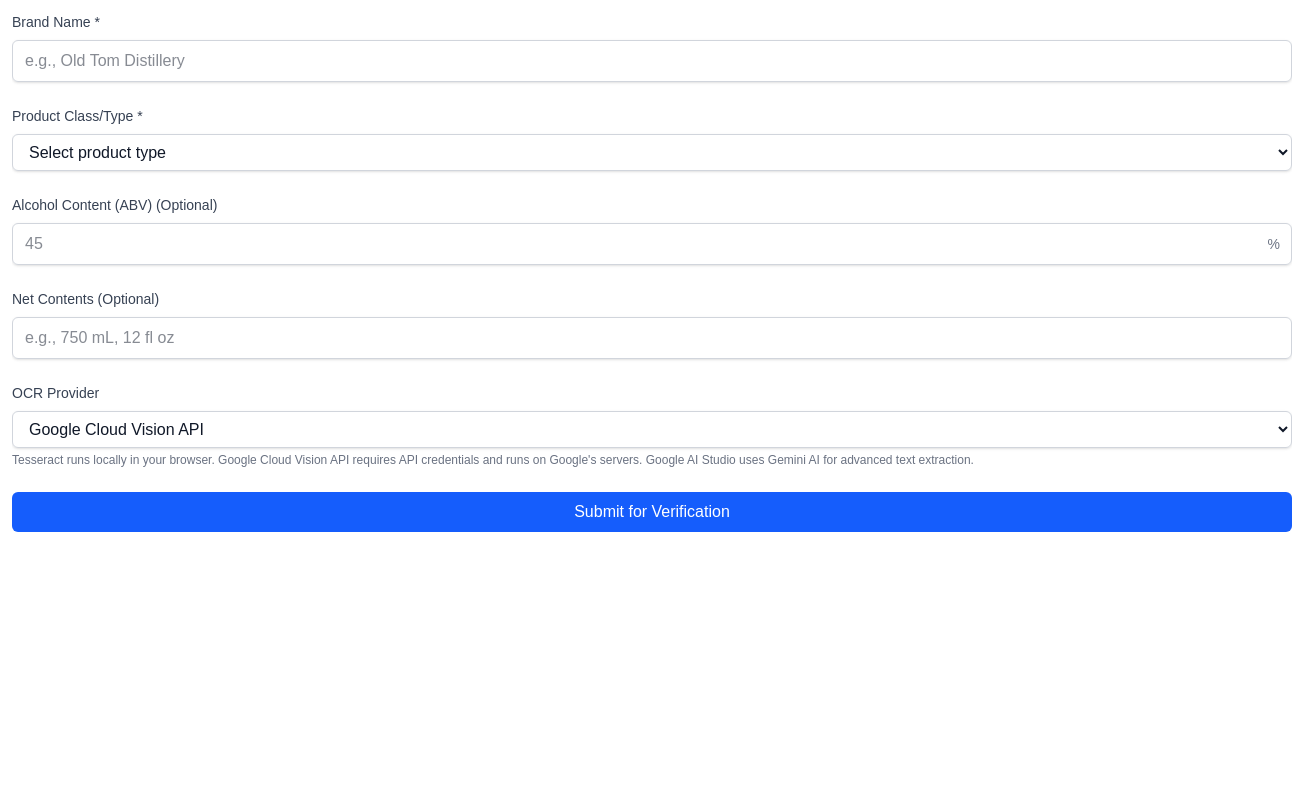
Scenario: Accessibility Tests › Error Handling Accessibility › should announce errors to screen readers
Trigger validation errors
Click the submit button.
click(652, 512)  # box [12, 492, 1292, 532]
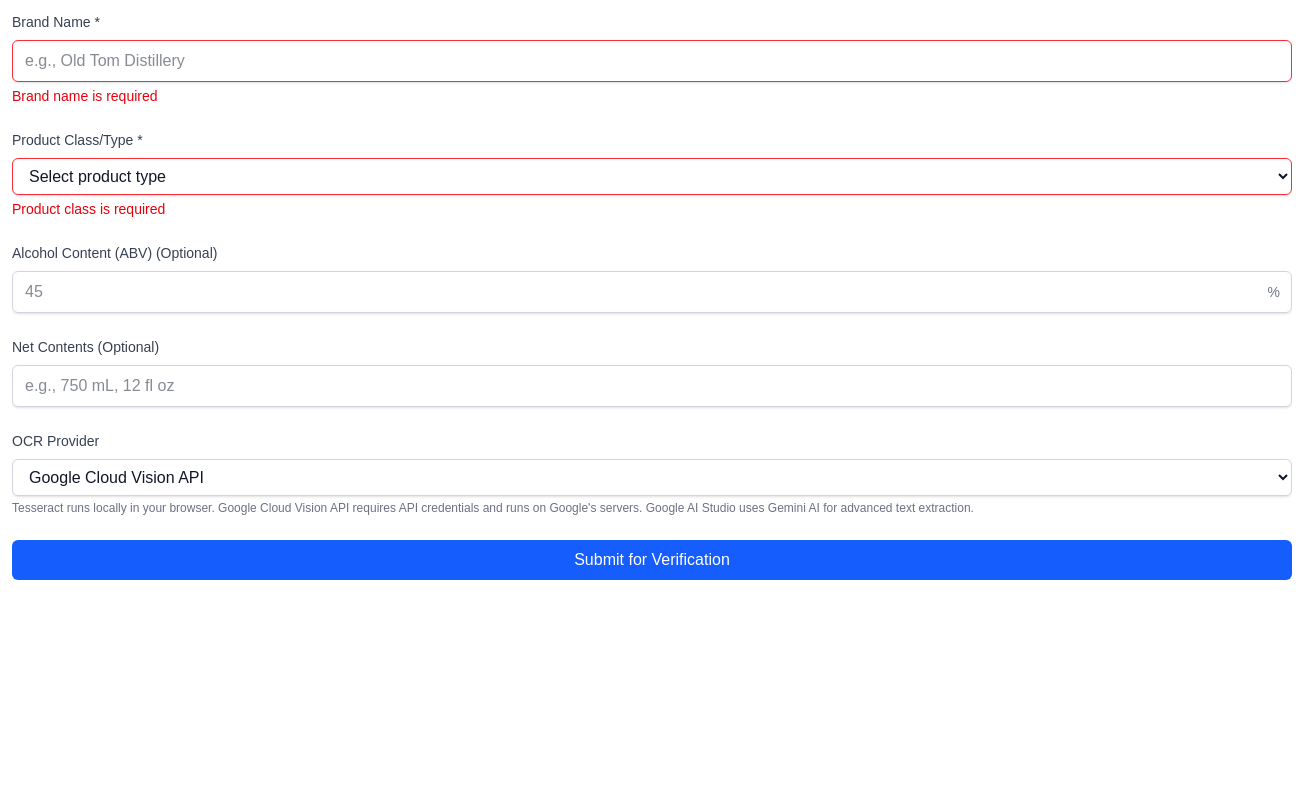
Now the text "Brand name is required" is shown, box [12, 88, 158, 104]
